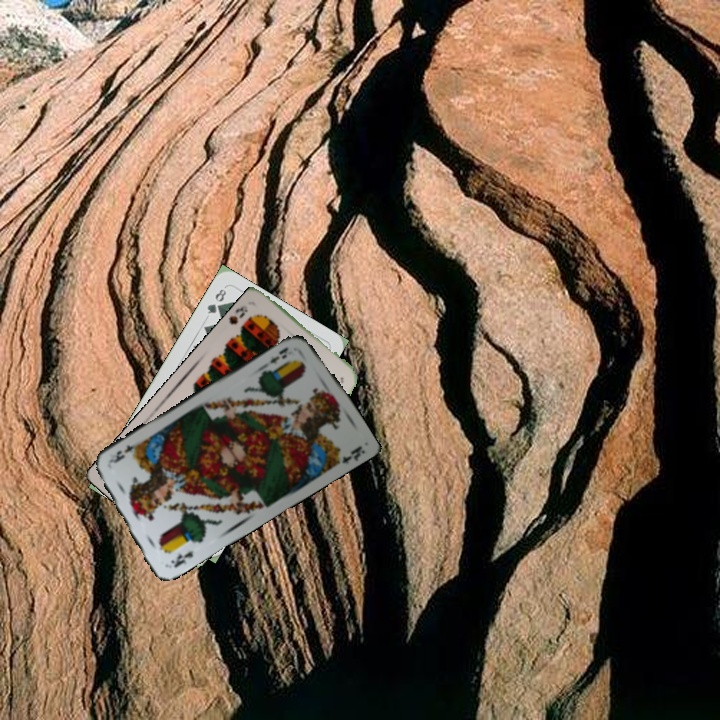EK: (167, 547, 196, 570), (265, 343, 291, 367)
G8: (203, 285, 229, 317)
S8: (225, 301, 250, 327)
